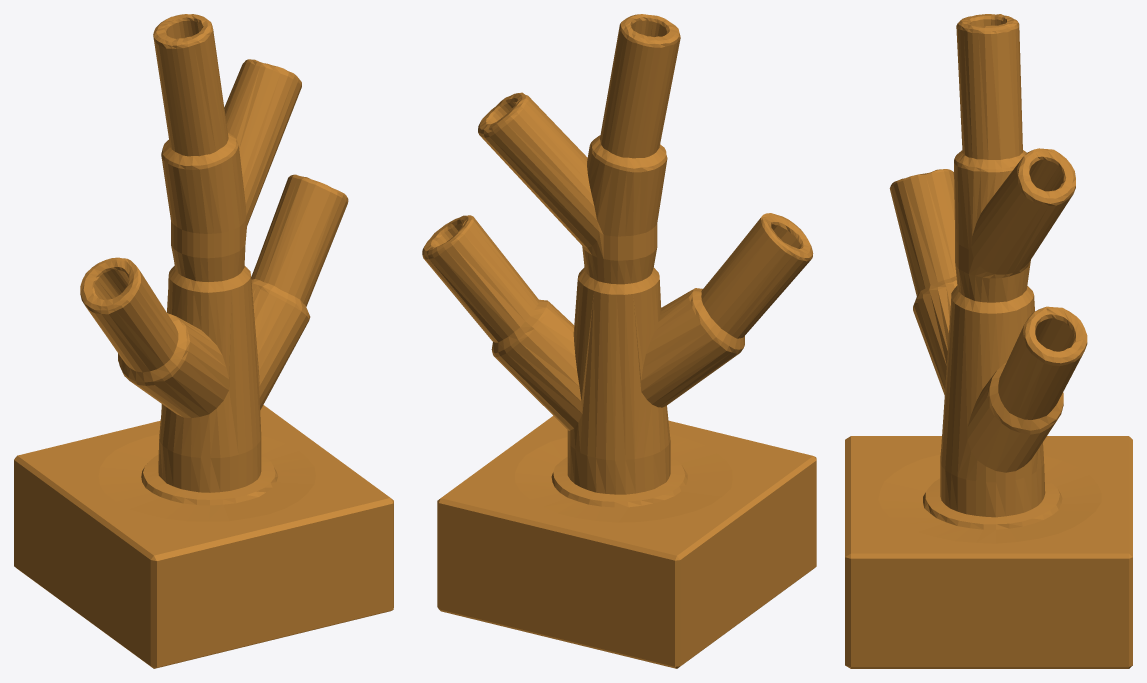
File: dead_bush.glb
3 views of the same model, side by side, from view 1: azimuth 30°, elevation 25°; view 2: azimuth 150°, elevation 25°; view 3: azimuth 270°, elevation 25° (orthographic).
Visible parts, largest first — view 1: mesh_rep_0_ori_repair.001; view 2: mesh_rep_0_ori_repair.001; view 3: mesh_rep_0_ori_repair.001.
Boxes of the visible parts, x1,y1,x2,y2 form: mesh_rep_0_ori_repair.001: (14, 14, 393, 668); mesh_rep_0_ori_repair.001: (422, 14, 816, 668); mesh_rep_0_ori_repair.001: (845, 14, 1132, 668).
Bounding box in the file's own units: 0.1038 × 0.1764 × 0.0791.
